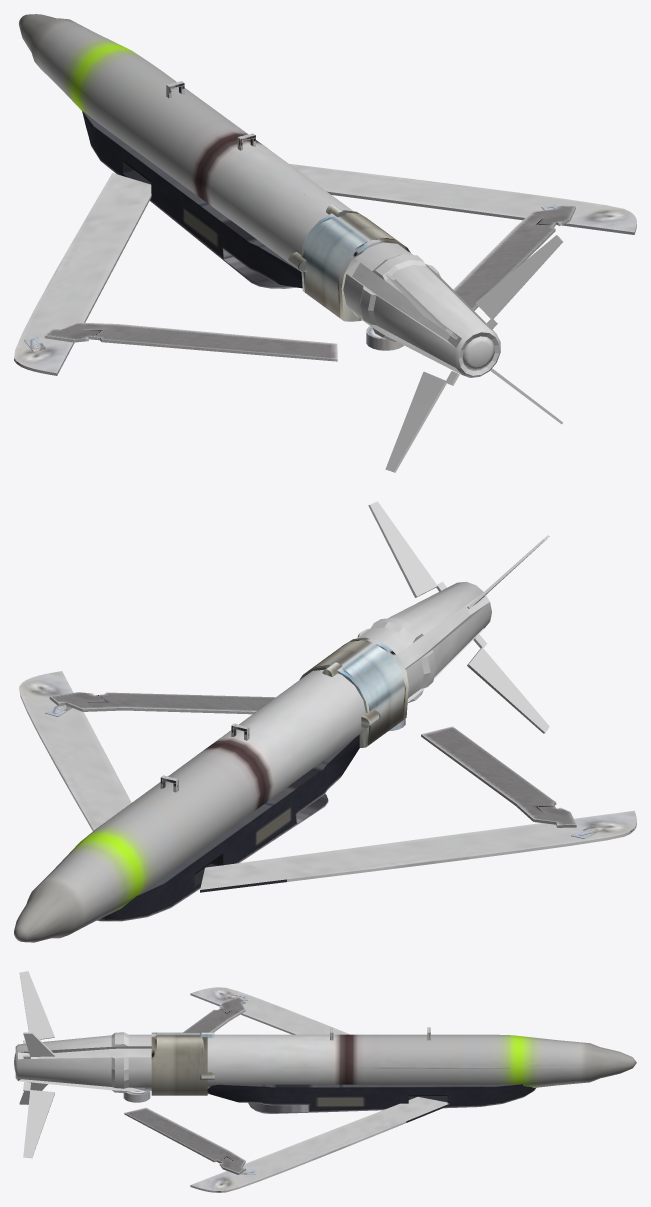
File: w_gbu39.glb
3 renders of one model, top to bottom at view 1: azimuth 30°, elevation 25°; view 2: azimuth 150°, elevation 25°; view 3: azimuth 270°, elevation 25°, orthographic. The views are drawn at different scales.
Parts seen in each view (by area): view 1: body|Material_25, wingA|Material_25, wingB|Material_25; view 2: body|Material_25, wingA|Material_25, wingB|Material_25; view 3: body|Material_25, wingB|Material_25, wingA|Material_25.
Boxes of the visible parts, x1=… form: body|Material_25: x1=19, y1=14, x2=563, y2=472; wingA|Material_25: x1=14, y1=173, x2=337, y2=375; wingB|Material_25: x1=289, y1=164, x2=636, y2=310; body|Material_25: x1=14, y1=501, x2=549, y2=942; wingA|Material_25: x1=200, y1=726, x2=636, y2=892; wingB|Material_25: x1=19, y1=671, x2=275, y2=831; body|Material_25: x1=14, y1=971, x2=636, y2=1158; wingB|Material_25: x1=124, y1=1097, x2=449, y2=1192; wingA|Material_25: x1=183, y1=987, x2=349, y2=1034.
Bounding box in the file's own units: 1.66 × 0.5085 × 2.15.
3 materials, 3 textured.
